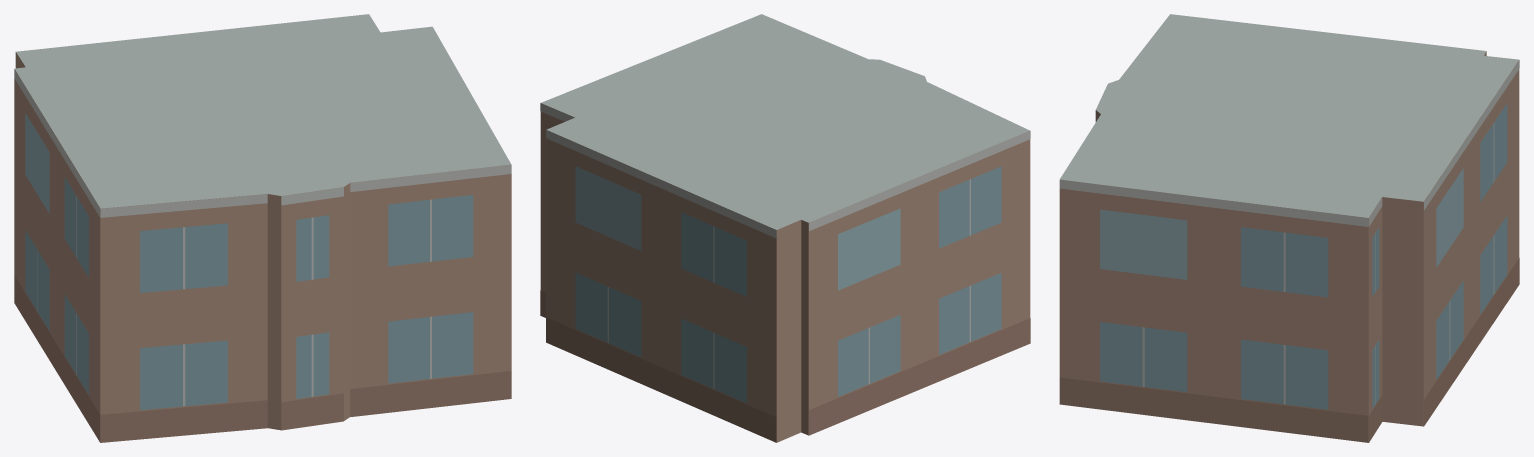
Rendered from survey-upis-32658219.glb.
The picture shows the model from 3 angles, left to right: view 1: azimuth 30°, elevation 25°; view 2: azimuth 150°, elevation 25°; view 3: azimuth 270°, elevation 25°; orthographic projection. The views are drawn at different scales.
Visible parts, largest first — view 1: survey-upis-32658219.tmp; view 2: survey-upis-32658219.tmp; view 3: survey-upis-32658219.tmp.
Boxes of the visible parts, x1,y1,x2,y2 form: survey-upis-32658219.tmp: [14, 14, 511, 442]; survey-upis-32658219.tmp: [540, 14, 1030, 442]; survey-upis-32658219.tmp: [1059, 14, 1519, 442].
Size of the model in its own units: 11.88 by 6.1 by 11.32.
